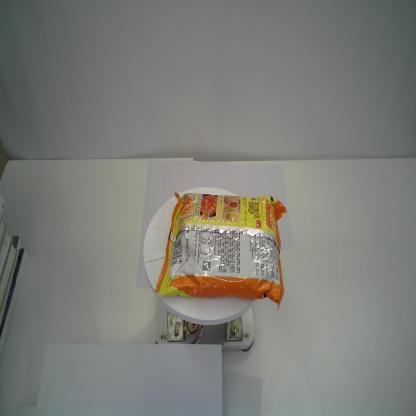Instant Noodles: (154, 191, 288, 310)
